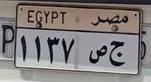1: (20, 35, 27, 62), (36, 35, 41, 63)
3: (46, 36, 60, 64)
7: (61, 38, 78, 63)
jeem: (108, 40, 127, 68)
saad: (89, 44, 107, 65)
